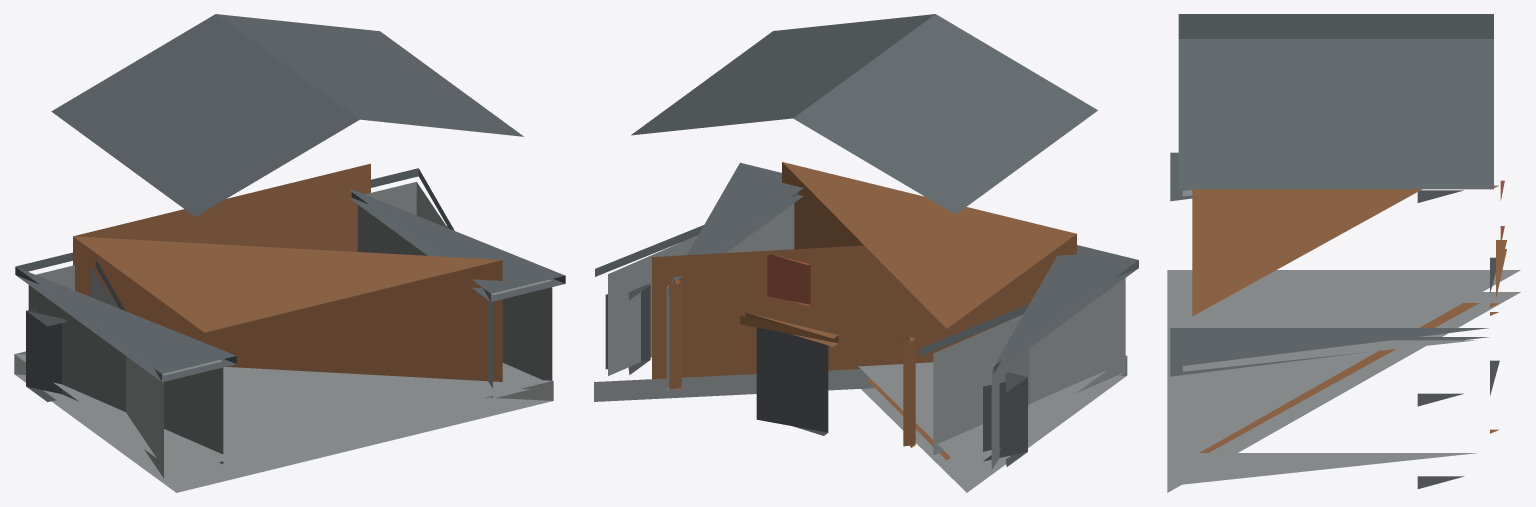
Rendered from barrosan_clanhold_authority.glb.
3 renders of one model, left to right at view 1: azimuth 30°, elevation 25°; view 2: azimuth 150°, elevation 25°; view 3: azimuth 270°, elevation 25°, orthographic. The views are drawn at different scales.
Parts seen in each view (by area): view 1: BarrosanClanholdAuthority; view 2: BarrosanClanholdAuthority; view 3: BarrosanClanholdAuthority.
Part boxes in pixels (left/top/right/bottom): BarrosanClanholdAuthority: left=14, top=14, right=565, bottom=492; BarrosanClanholdAuthority: left=594, top=14, right=1138, bottom=492; BarrosanClanholdAuthority: left=1167, top=14, right=1520, bottom=492.
Bounding box in the file's own units: 9.25 × 7.05 × 6.4.
